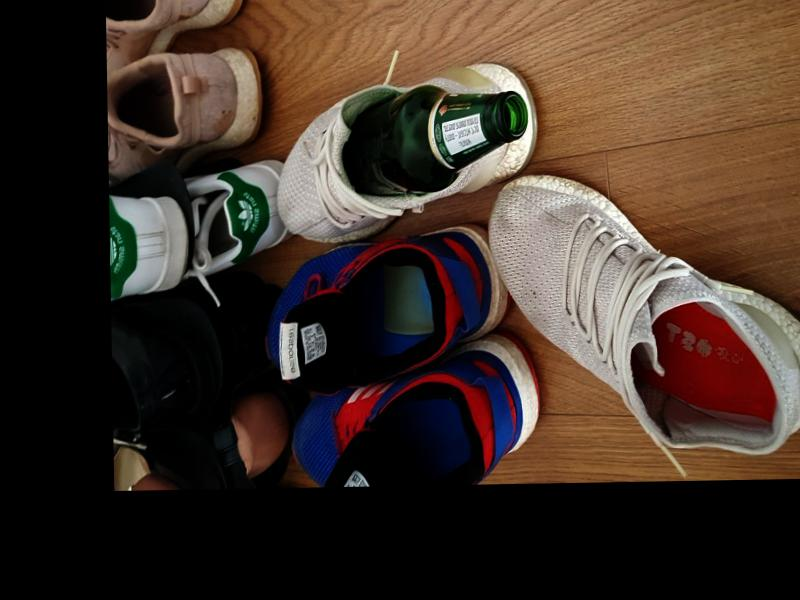Beer: (343, 83, 529, 198)
